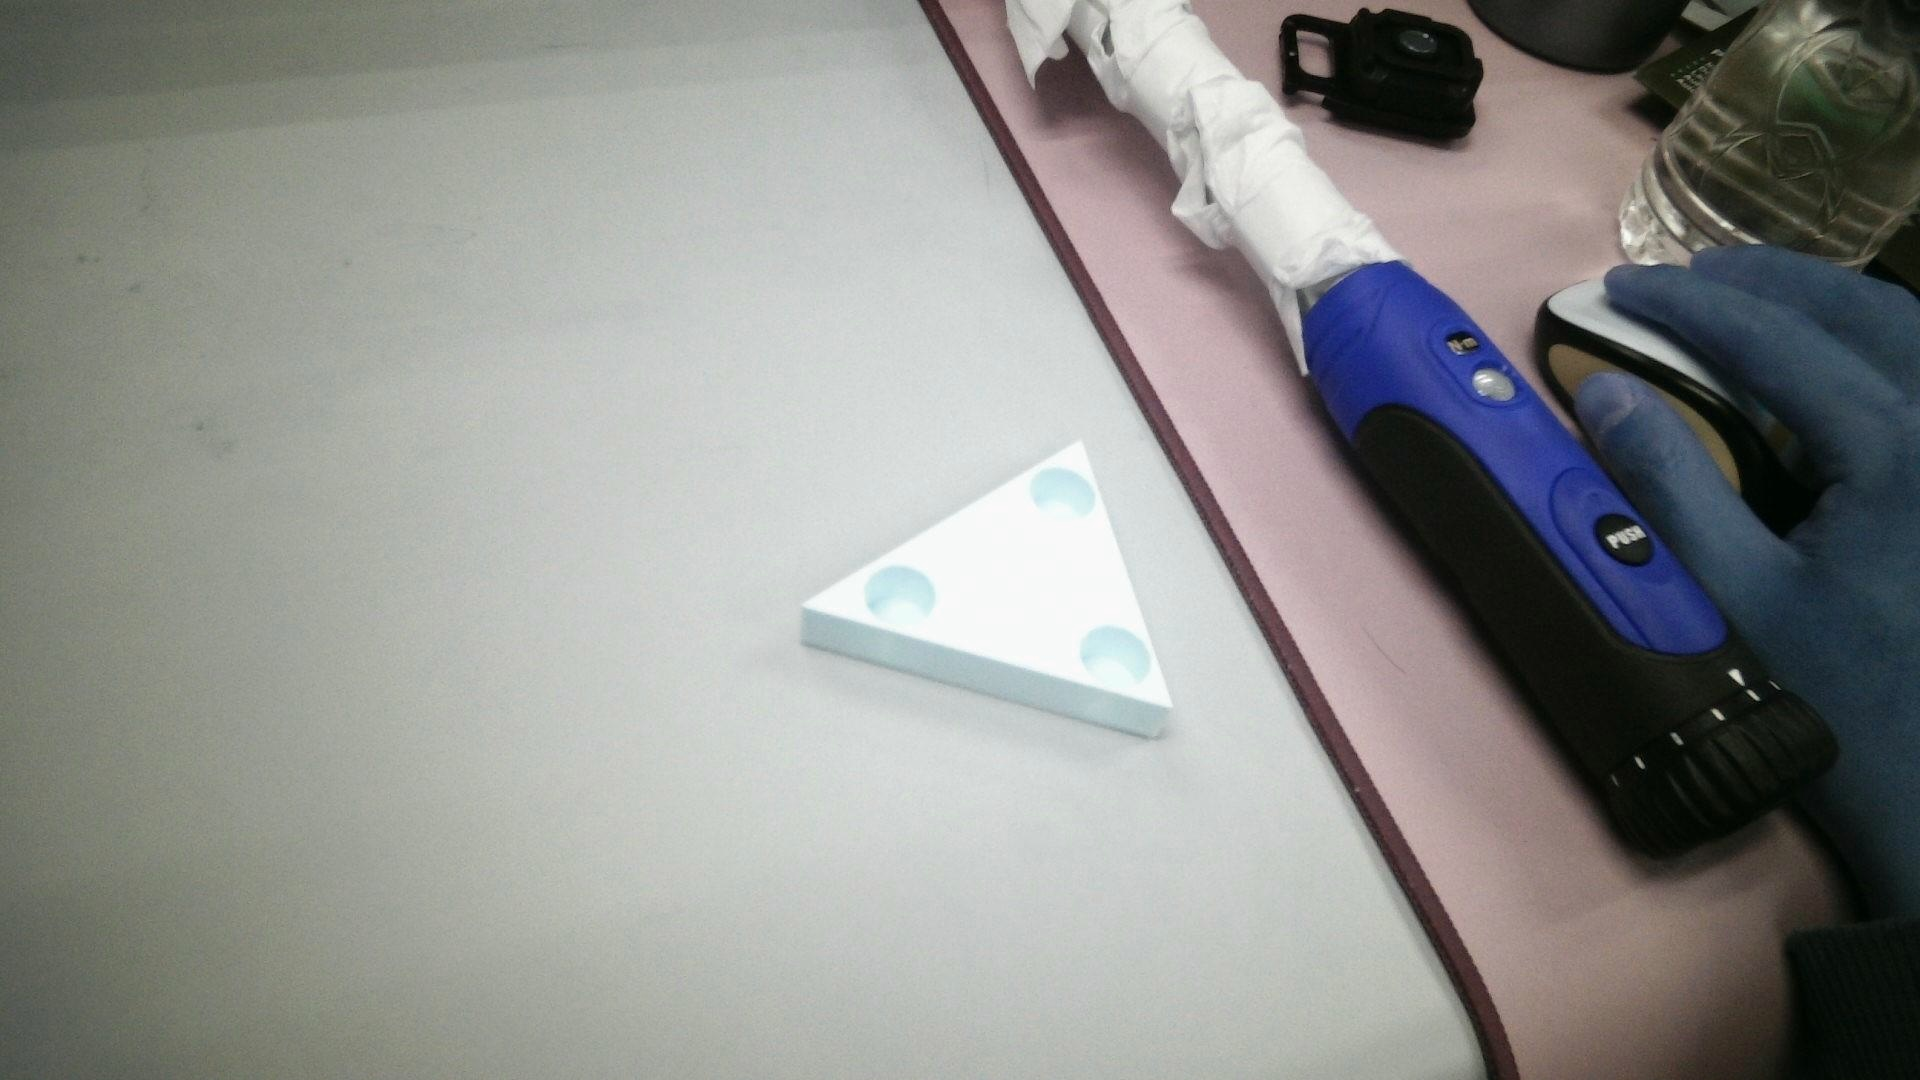hole: (862, 558, 934, 634), (1080, 626, 1158, 696), (1033, 468, 1095, 526)
obj: (764, 409, 1193, 767)
